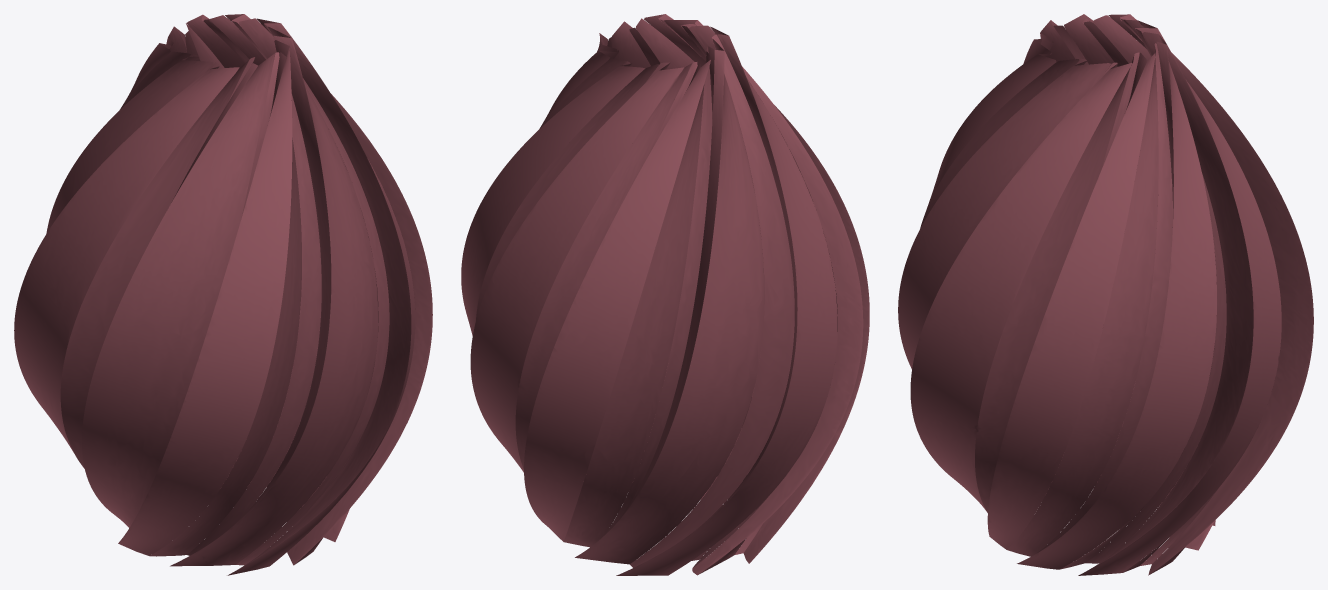
The model's file is blade-solo-91535d.glb.
3 views of the same model, side by side, from view 1: azimuth 30°, elevation 25°; view 2: azimuth 150°, elevation 25°; view 3: azimuth 270°, elevation 25° (orthographic).
Visible parts, largest first — view 1: Blade; view 2: Blade; view 3: Blade.
Boxes of the visible parts, bbox=[...] form: Blade: bbox=[14, 14, 432, 575]; Blade: bbox=[461, 14, 869, 575]; Blade: bbox=[898, 14, 1313, 575].
Size of the model in its own units: 0.2775 by 0.37 by 0.2841.
